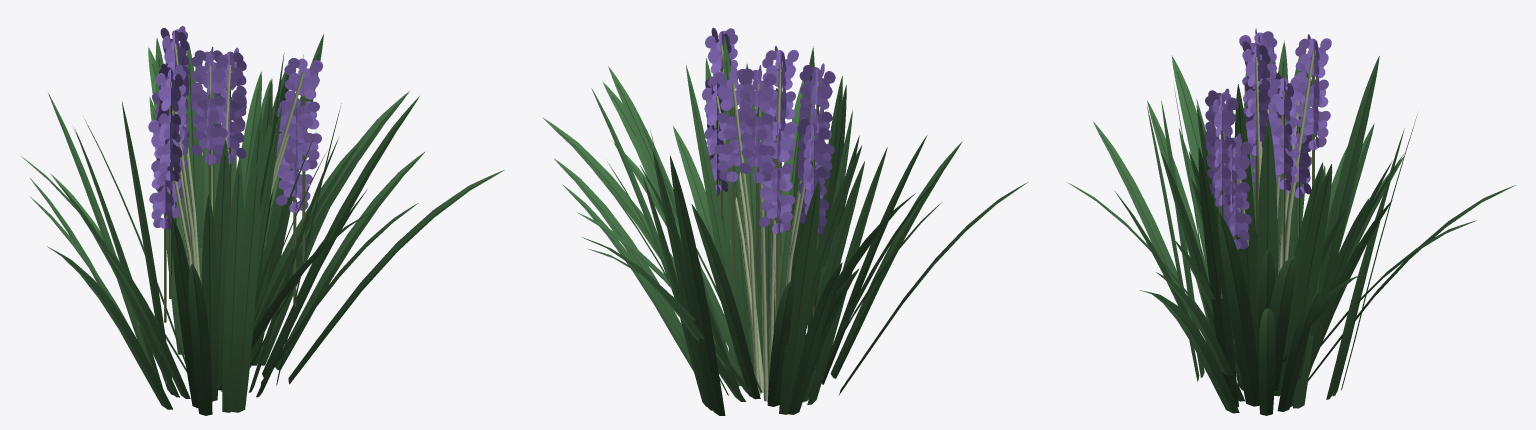
The model's file is liriope-muscari.glb.
3 renders of one model, left to right at view 1: azimuth 30°, elevation 25°; view 2: azimuth 150°, elevation 25°; view 3: azimuth 270°, elevation 25°, orthographic.
Visible parts, largest first — view 1: folhas, flores, haste; view 2: folhas, flores, haste; view 3: folhas, flores, haste.
Boxes of the visible parts, x1=… form: folhas: x1=20, y1=34, x2=504, y2=415; flores: x1=148, y1=26, x2=322, y2=322; haste: x1=170, y1=43, x2=304, y2=391; folhas: x1=543, y1=34, x2=1027, y2=415; flores: x1=702, y1=27, x2=835, y2=318; haste: x1=716, y1=44, x2=818, y2=401; folhas: x1=1067, y1=40, x2=1515, y2=415; flores: x1=1205, y1=28, x2=1331, y2=343; haste: x1=1221, y1=51, x2=1314, y2=273.
Size of the model in its own units: 0.4 by 0.3 by 0.3547.
Materials: 3 (2 with a texture image).
